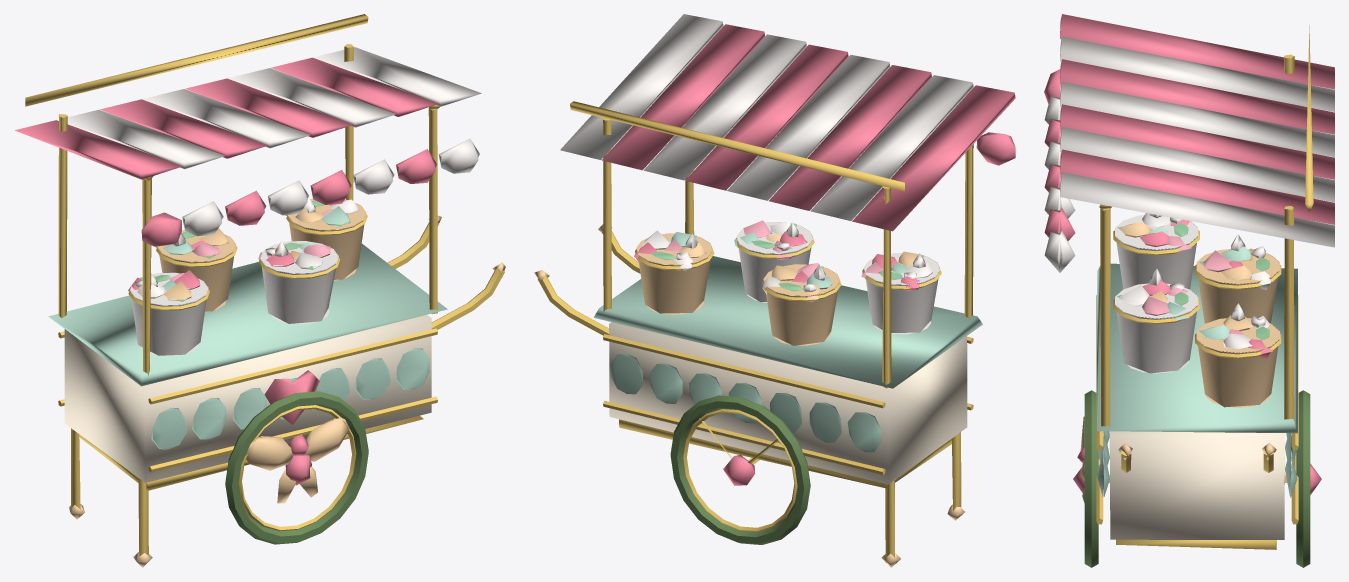
The model's file is lite_flower_cart.glb.
The picture shows the model from 3 angles, left to right: view 1: azimuth 30°, elevation 25°; view 2: azimuth 150°, elevation 25°; view 3: azimuth 270°, elevation 25°; orthographic projection. The views are drawn at different scales.
Visible parts, largest first — view 1: flower_cart; view 2: flower_cart; view 3: flower_cart.
Part boxes in pixels (x1,y1,x2,y2): flower_cart: (15, 14, 505, 567); flower_cart: (534, 14, 1015, 567); flower_cart: (1044, 14, 1334, 567).
Size of the model in its own units: 2.45 by 2.49 by 1.43.
